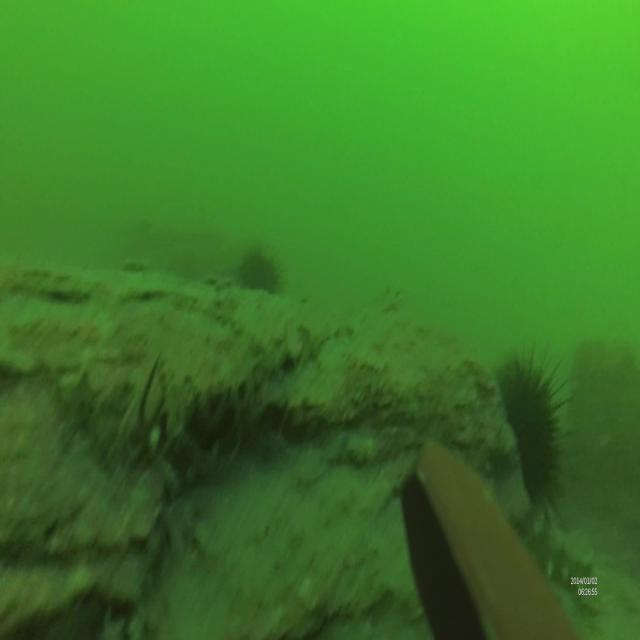echinus: (490, 345, 570, 516), (237, 247, 283, 301)
holothurian: (528, 508, 594, 590)
